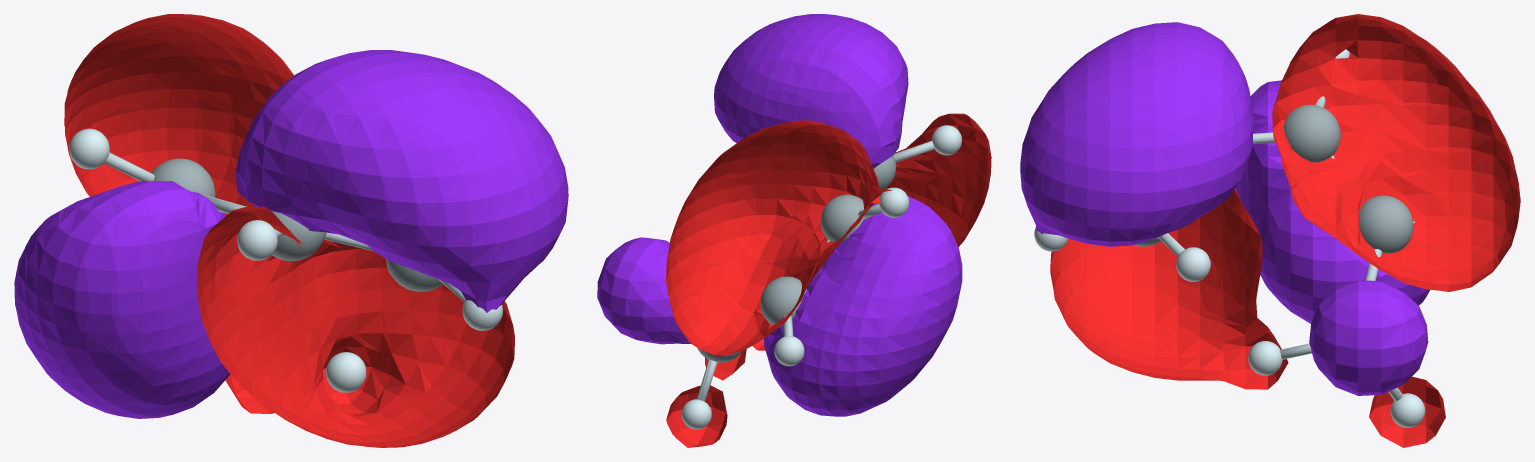
3 renders of one model, left to right at view 1: azimuth 30°, elevation 25°; view 2: azimuth 150°, elevation 25°; view 3: azimuth 270°, elevation 25°, orthographic. The views are drawn at different scales.
Visible parts, largest first — view 1: Renderer Node; view 2: Renderer Node; view 3: Renderer Node.
Boxes of the visible parts, left/top/right/bottom form: Renderer Node: left=14, top=14, right=568, bottom=447; Renderer Node: left=597, top=14, right=991, bottom=447; Renderer Node: left=1020, top=14, right=1520, bottom=447.
Bounding box in the file's own units: 4.87 × 5.02 × 5.75.
